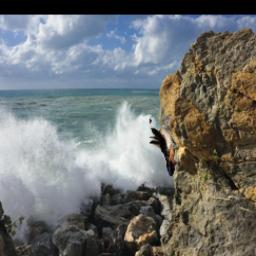Swallow: (149, 112, 177, 176)
